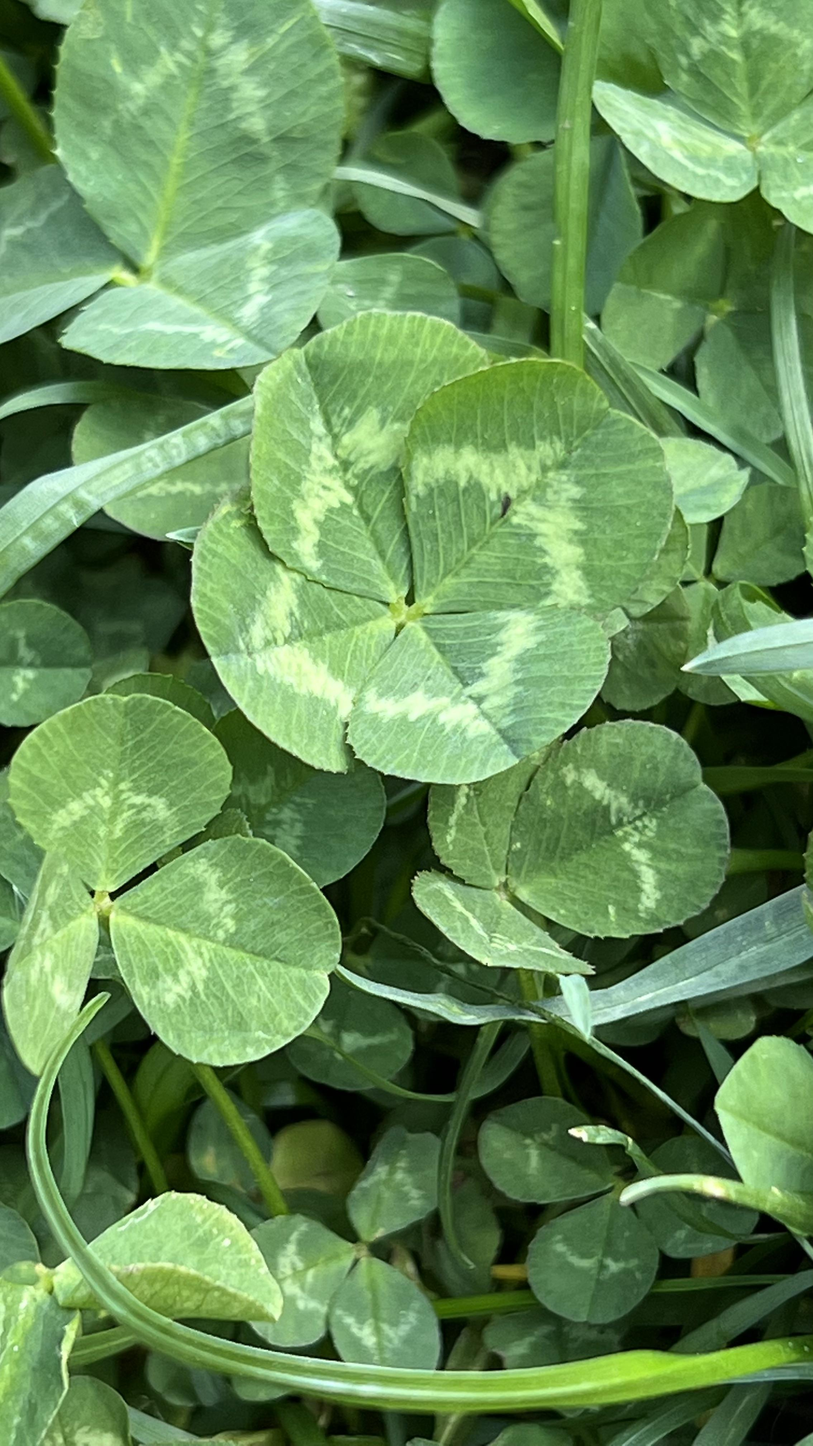4-Leaf-Clovers: (175, 241, 442, 1125)
